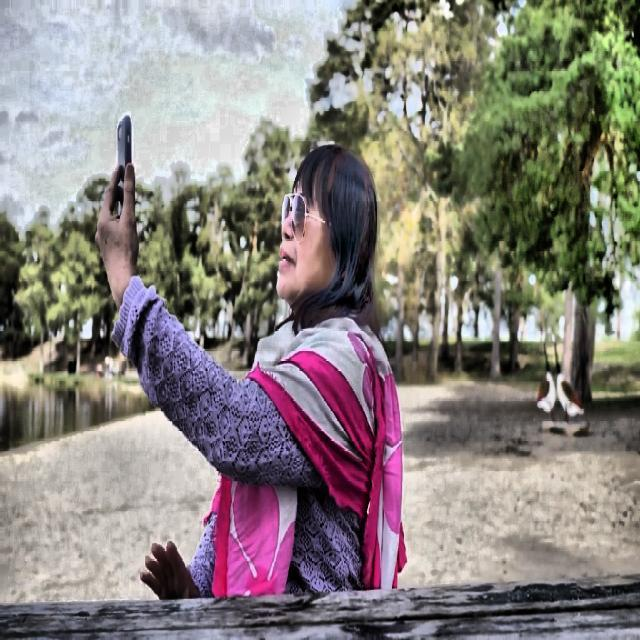Phone: (117, 118, 134, 211)
